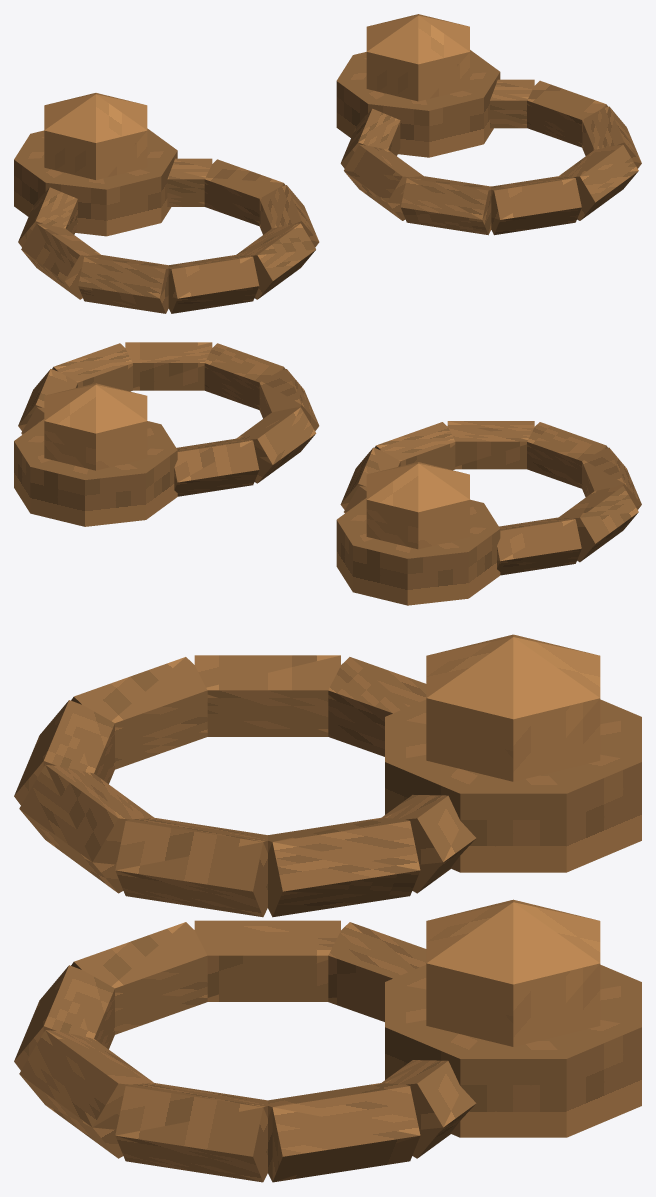
The model's file is bead_ear.glb.
The picture shows the model from 3 angles, top to bottom: view 1: azimuth 30°, elevation 25°; view 2: azimuth 150°, elevation 25°; view 3: azimuth 270°, elevation 25°; orthographic projection. The views are drawn at different scales.
Parts seen in each view (by area): view 1: block_polished setting (×2), block_faceted stone (×2), block_earring loop2 (×2), block_earring loop3 (×2), block_earring loop8 (×2), block_earring loop4 (×2), block_earring loop1 (×2), block_earring loop7 (×2), block_earring loop0 (×2), block_earring loop5 (×2); view 2: block_polished setting (×2), block_faceted stone (×2), block_earring loop5 (×2), block_earring loop1 (×2), block_earring loop2 (×2), block_earring loop4 (×2), block_earring loop0 (×2), block_earring loop3 (×2), block_earring loop8 (×2); view 3: block_polished setting (×2), block_faceted stone (×2), block_earring loop0 (×2), block_earring loop8 (×2), block_earring loop4 (×2), block_earring loop3 (×2), block_earring loop1 (×2), block_earring loop5 (×2), block_earring loop2 (×2), block_earring loop7 (×2).
Boxes of the visible parts, x1=… form: block_polished setting (×2): x1=14, y1=50, x2=500, y2=236; block_faceted stone (×2): x1=44, y1=14, x2=469, y2=179; block_earring loop2 (×2): x1=168, y1=176, x2=581, y2=313; block_earring loop3 (×2): x1=78, y1=176, x2=491, y2=313; block_earring loop8 (×2): x1=204, y1=80, x2=607, y2=226; block_earring loop4 (×2): x1=21, y1=144, x2=423, y2=299; block_earring loop1 (×2): x1=236, y1=144, x2=638, y2=299; block_earring loop7 (×2): x1=167, y1=79, x2=534, y2=206; block_earring loop0 (×2): x1=259, y1=106, x2=641, y2=247; block_earring loop5 (×2): x1=18, y1=108, x2=400, y2=247; block_polished setting (×2): x1=14, y1=419, x2=500, y2=605; block_faceted stone (×2): x1=44, y1=383, x2=469, y2=549; block_earring loop5 (×2): x1=174, y1=438, x2=581, y2=575; block_earring loop1 (×2): x1=125, y1=342, x2=534, y2=469; block_earring loop2 (×2): x1=204, y1=343, x2=607, y2=488; block_earring loop4 (×2): x1=236, y1=407, x2=638, y2=562; block_earring loop0 (×2): x1=52, y1=343, x2=455, y2=470; block_earring loop3 (×2): x1=259, y1=369, x2=641, y2=509; block_earring loop8 (×2): x1=18, y1=369, x2=400, y2=509; block_polished setting (×2): x1=385, y1=699, x2=641, y2=1137; block_faceted stone (×2): x1=426, y1=634, x2=600, y2=1046; block_earring loop0 (×2): x1=115, y1=817, x2=267, y2=1182; block_earring loop8 (×2): x1=268, y1=817, x2=420, y2=1182; block_earring loop4 (×2): x1=194, y1=655, x2=340, y2=1001; block_earring loop3 (×2): x1=71, y1=657, x2=207, y2=1034; block_earring loop1 (×2): x1=19, y1=764, x2=153, y2=1158; block_earring loop5 (×2): x1=328, y1=657, x2=426, y2=1021; block_earring loop2 (×2): x1=14, y1=700, x2=114, y2=1070; block_earring loop7 (×2): x1=382, y1=795, x2=476, y2=1158.
Bounding box in the file's own units: 0.0187 × 0.00337 × 0.0104.
1 material, 1 textured.
